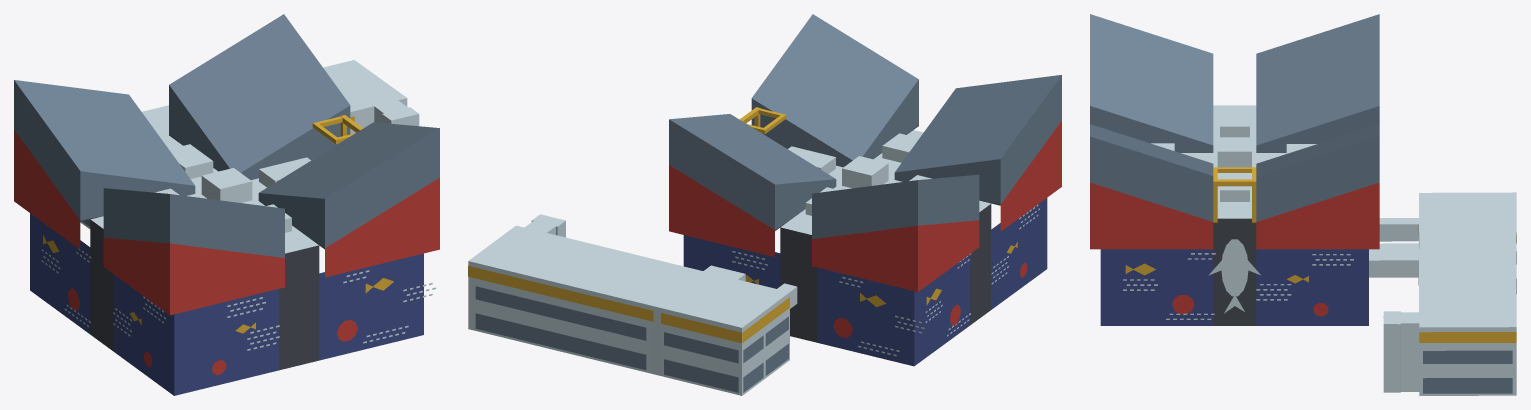
The model's file is osaka-kaiyukan.glb.
3 renders of one model, left to right at view 1: azimuth 30°, elevation 25°; view 2: azimuth 150°, elevation 25°; view 3: azimuth 270°, elevation 25°, orthographic. The views are drawn at different scales.
Visible parts, largest first — view 1: Kaiyukan; view 2: Kaiyukan; view 3: Kaiyukan.
Boxes of the visible parts, <box> form: Kaiyukan: <box>14,14,439,395</box>; Kaiyukan: <box>468,14,1061,395</box>; Kaiyukan: <box>1090,14,1516,395</box>.
Size of the model in its own units: 104 by 49.78 by 99.3.
